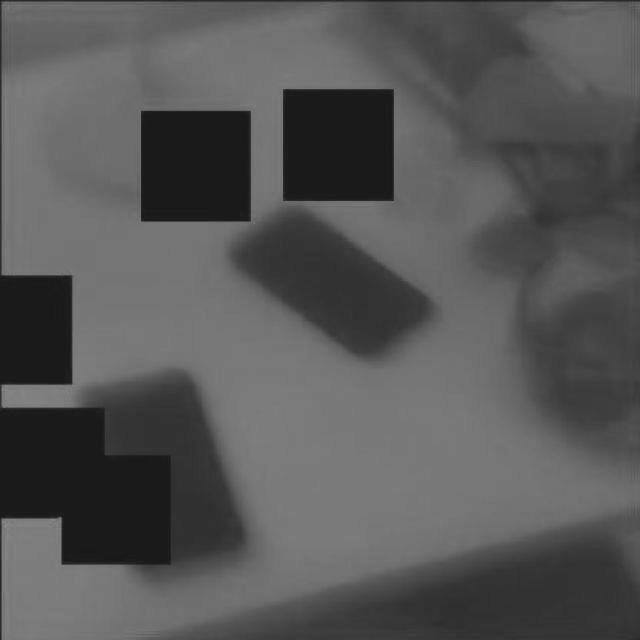fake: (80, 368, 249, 572), (230, 207, 436, 361)
